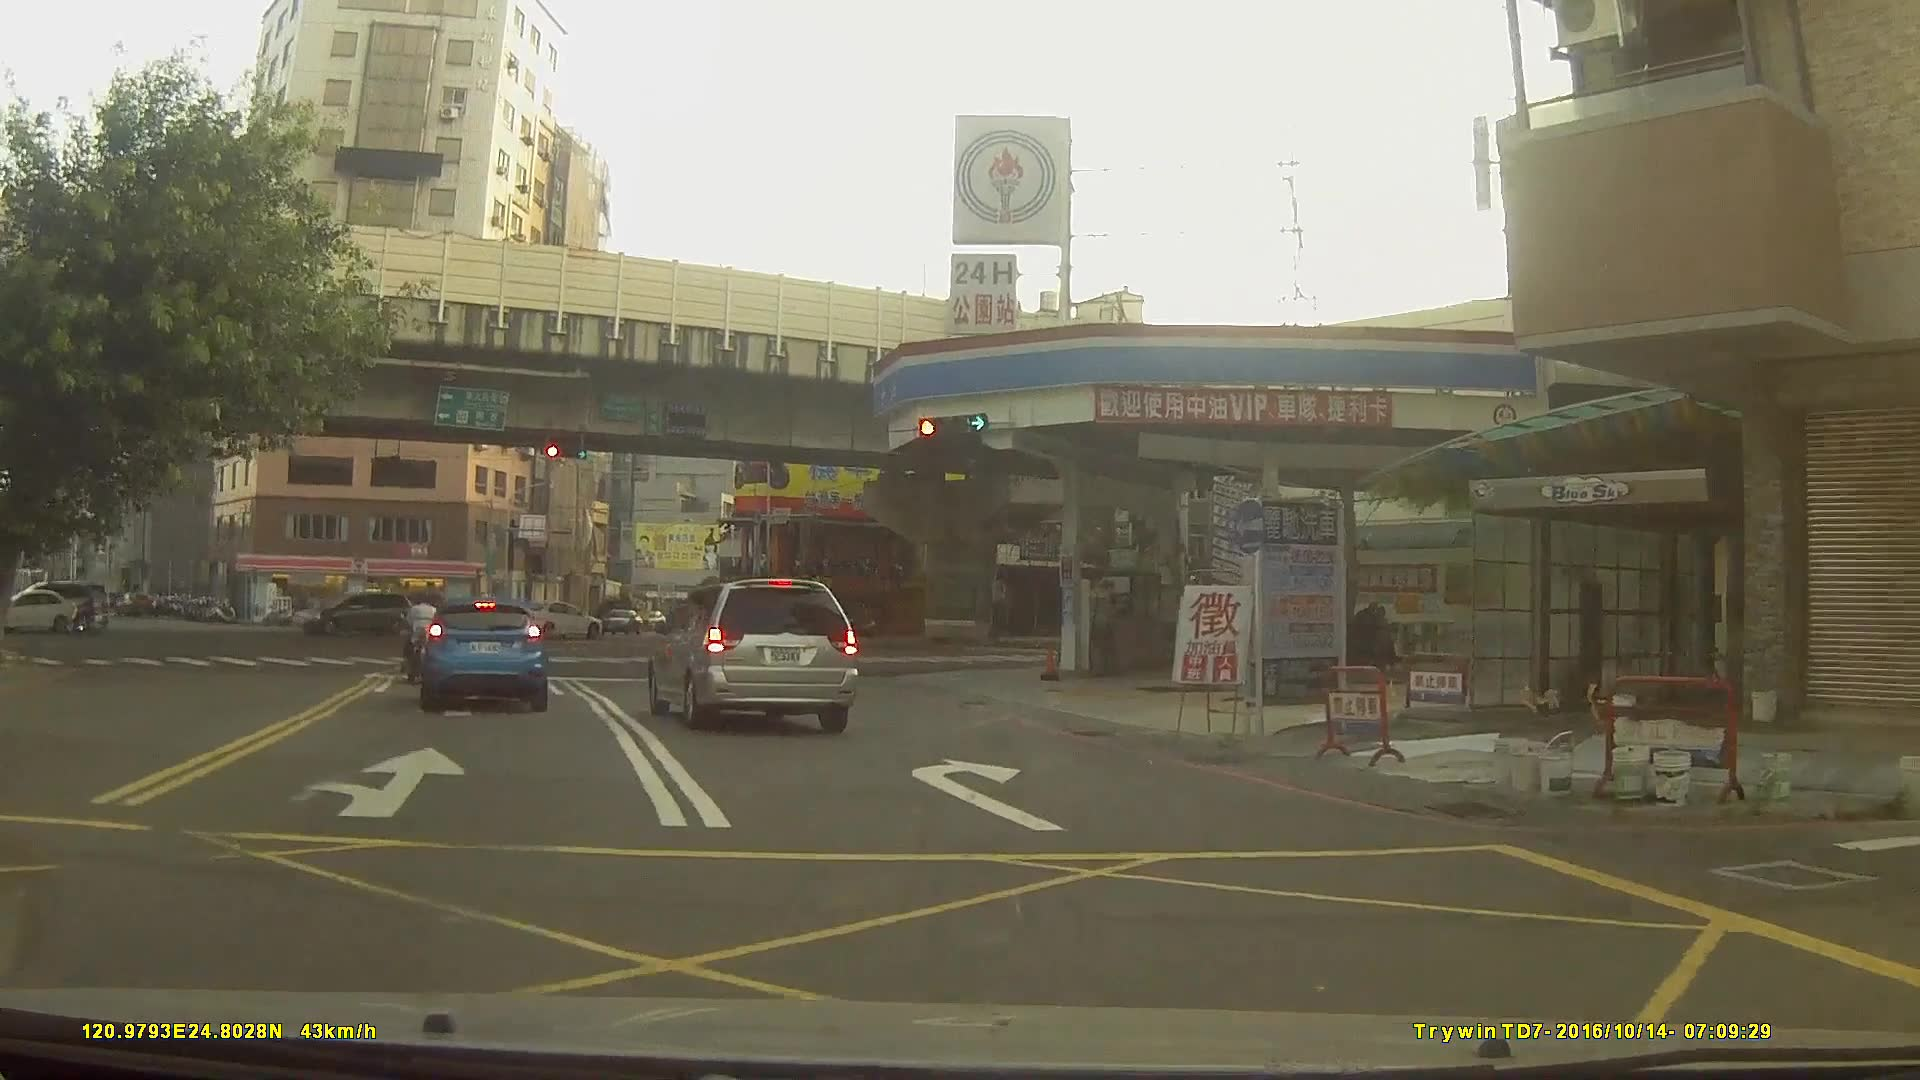rider: (402, 594, 441, 676), (65, 602, 95, 633)
vehicle: (649, 575, 859, 734), (414, 595, 548, 712), (295, 592, 413, 640), (0, 587, 84, 634), (513, 598, 603, 640)
